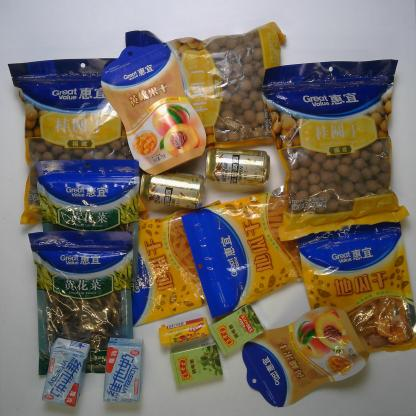Alcohol: (204, 146, 271, 186), (138, 171, 206, 210)
Candy: (209, 303, 265, 354), (170, 341, 226, 388), (157, 314, 211, 351)
Dried Food: (260, 60, 411, 244), (8, 57, 150, 226), (123, 19, 287, 151), (27, 230, 134, 376), (35, 158, 143, 285)
Dried Fruit: (180, 184, 305, 320), (297, 221, 416, 354), (101, 43, 208, 176), (240, 306, 371, 409), (132, 198, 222, 329)
Milk: (40, 336, 91, 408), (103, 336, 143, 405)
